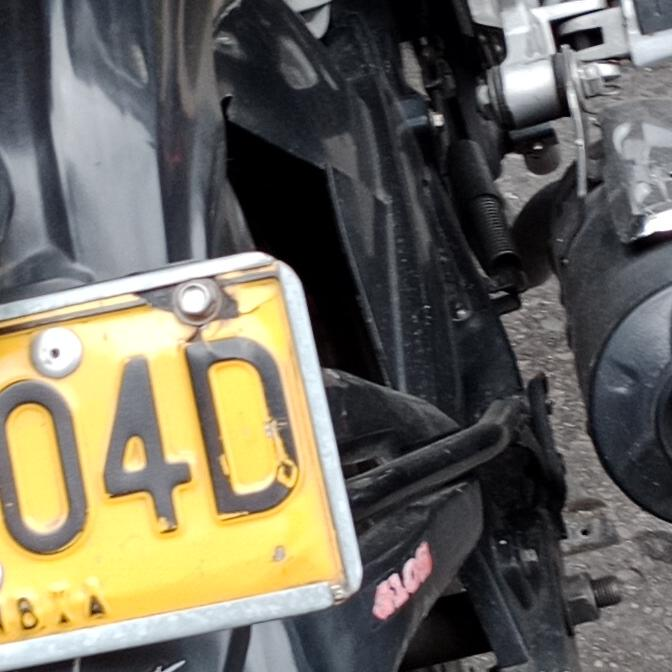plates: (0, 257, 370, 671)
